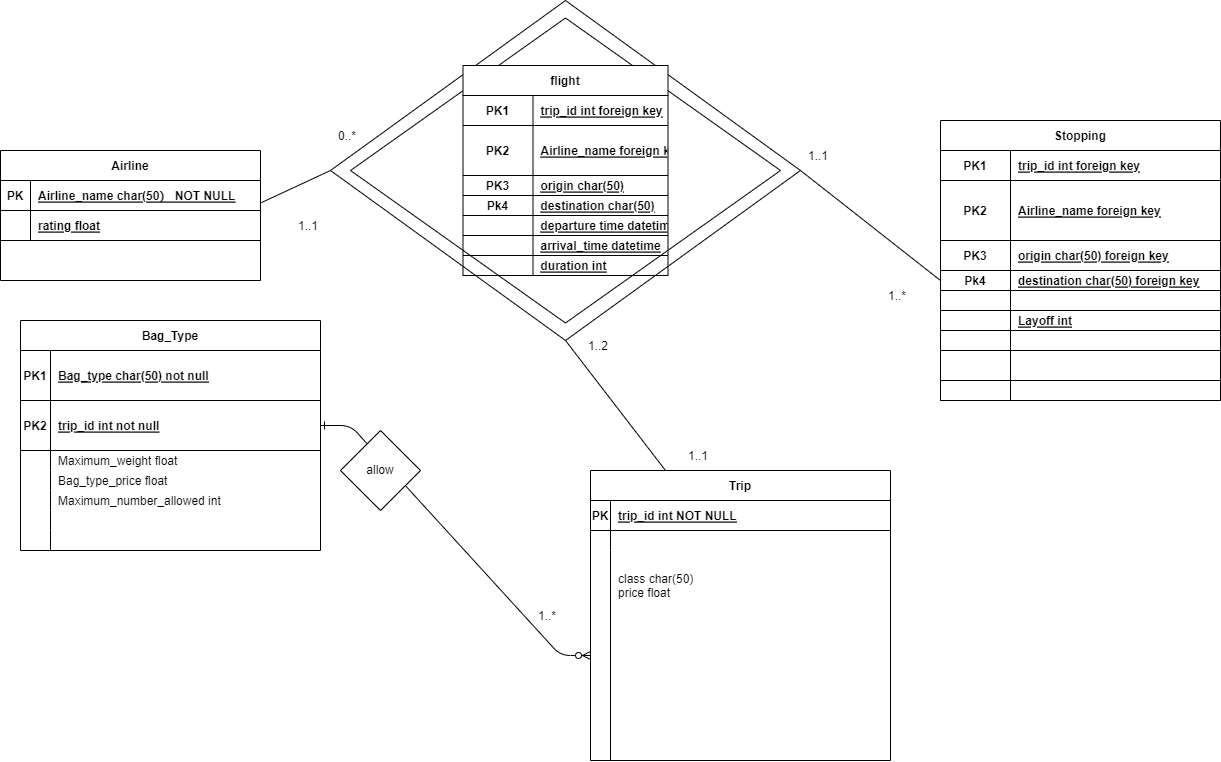entity: (591, 469, 891, 762), (940, 119, 1221, 403), (20, 319, 322, 551), (462, 66, 669, 278), (1, 150, 262, 283)
many: (564, 648, 591, 662)
one: (320, 418, 346, 430)
rel: (339, 429, 420, 509)
